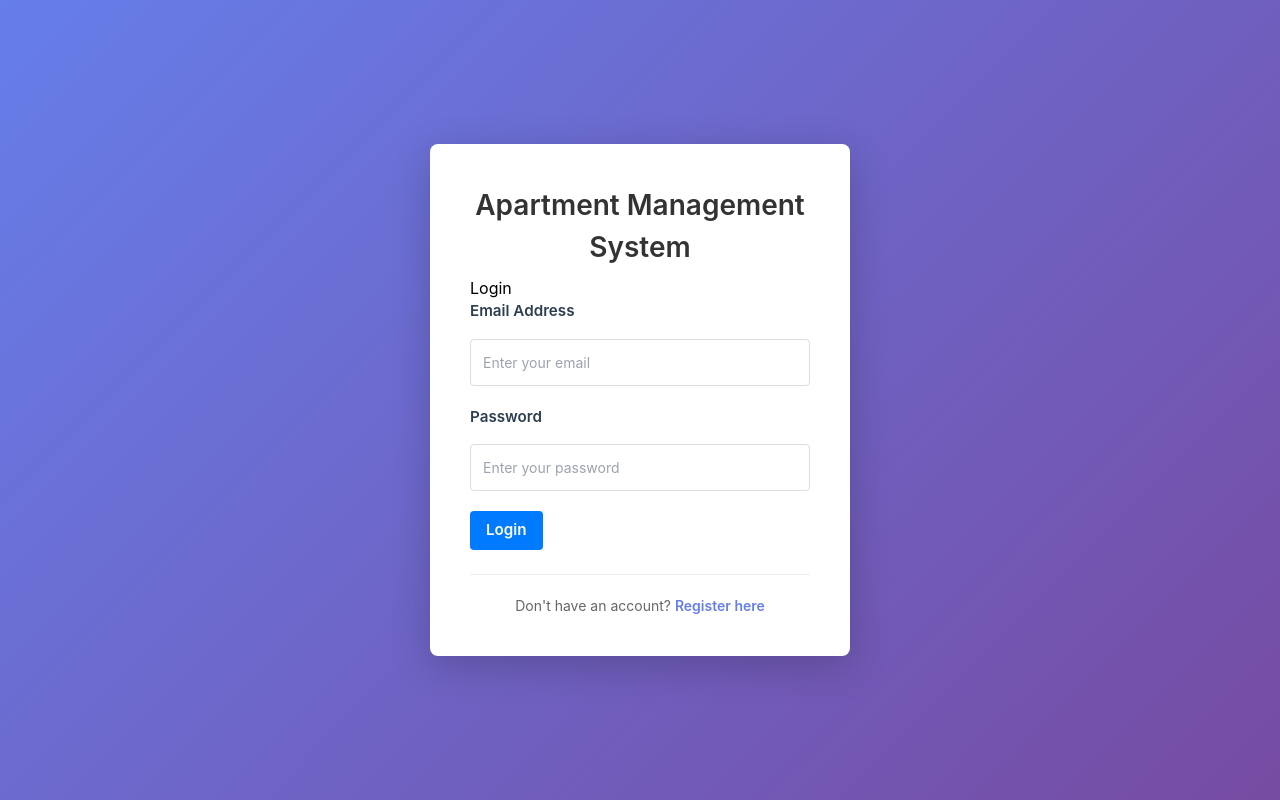
Test: Login Component › login functionality › should show loading state during login
Type "test@example.com" into the field labelled "Email Address" at (640,362), box top-left (470, 339), bottom-right (810, 386)
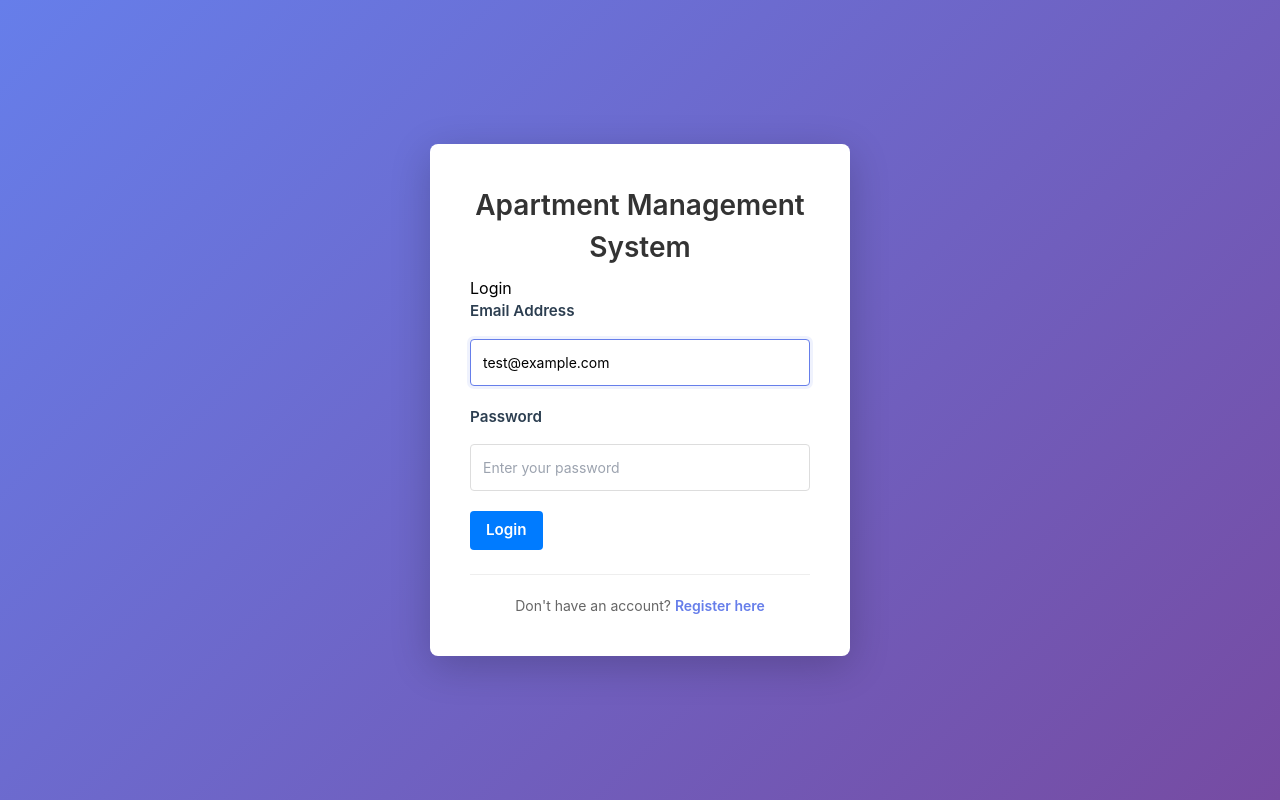
Type "validpassword" into the password field labelled "Password" at (640,468), box top-left (470, 444), bottom-right (810, 491)
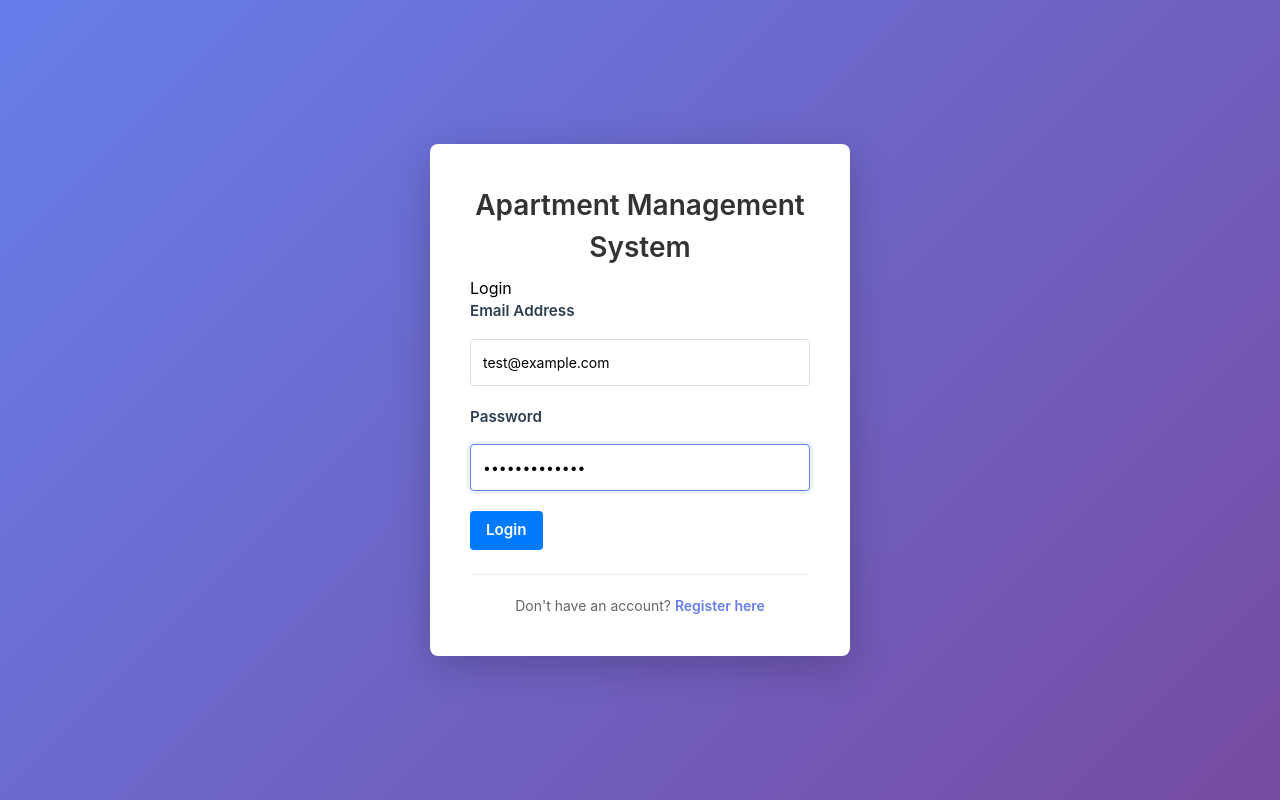
Click the button "Login" at (506,531), box top-left (470, 511), bottom-right (543, 550)
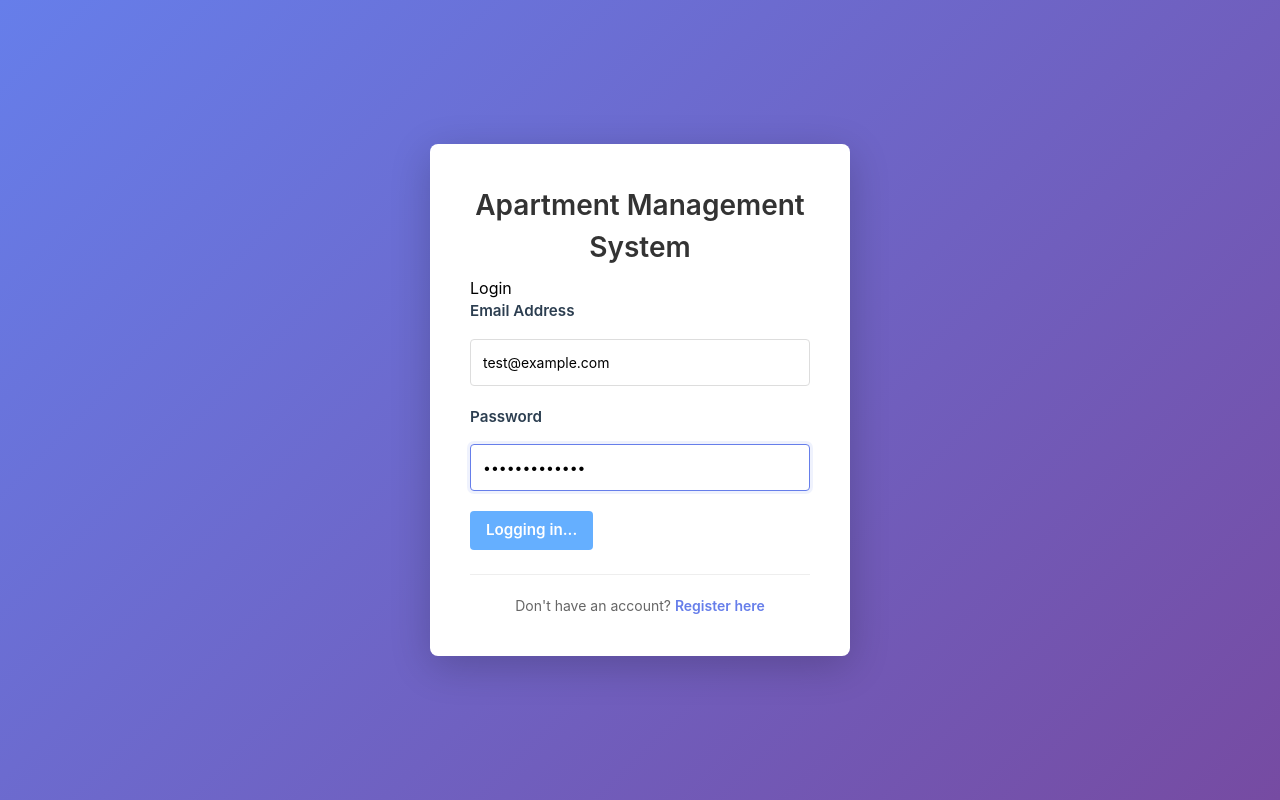
Expected: the button named "login" is disabled, top-left (470, 511), bottom-right (593, 550)
